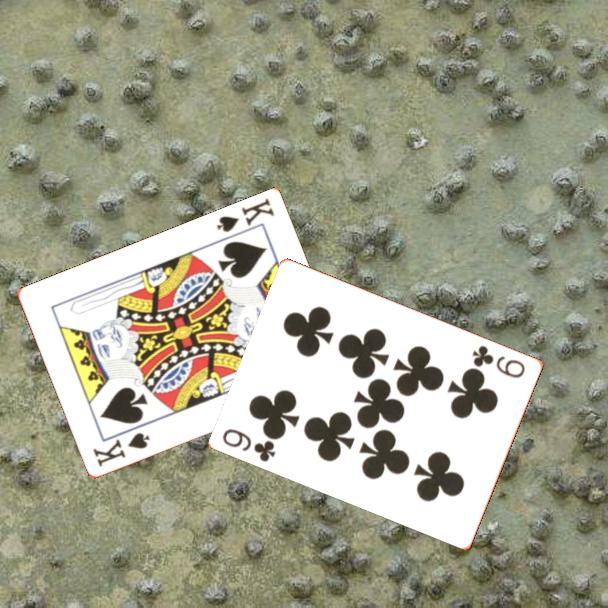c09: (219, 425, 279, 465), (469, 342, 528, 381)
s13: (89, 429, 153, 470), (213, 195, 277, 236)
